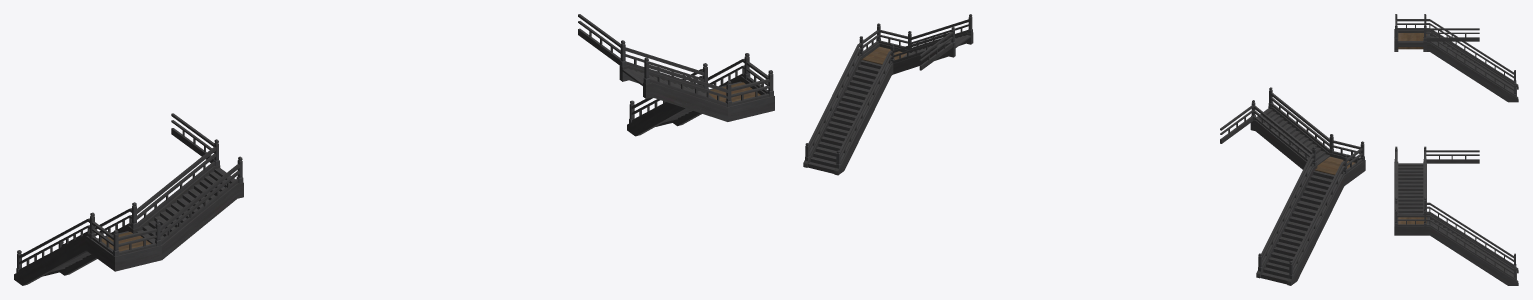
File: Homeworld_Interior_Dq_Room_P_Stair_Vo.fbx
3 views of the same model, side by side, from view 1: azimuth 30°, elevation 25°; view 2: azimuth 150°, elevation 25°; view 3: azimuth 270°, elevation 25° (orthographic). The views are drawn at different scales.
Visible parts, largest first — view 1: Homeworld_Interior_Dq_Room_P_Stair_01_Vo, Homeworld_Interior_Dq_Room_P_Stair_01_01_Vo; view 2: Homeworld_Interior_Dq_Room_P_Stair_01_Vo, Homeworld_Interior_Dq_Room_P_Stair_01_01_Vo; view 3: Homeworld_Interior_Dq_Room_P_Stair_01_01_Vo, Homeworld_Interior_Dq_Room_P_Stair_01_Vo.
Boxes of the visible parts, x1,y1,x2,y2 form: Homeworld_Interior_Dq_Room_P_Stair_01_Vo: [14, 113, 243, 285]; Homeworld_Interior_Dq_Room_P_Stair_01_01_Vo: [578, 14, 774, 136]; Homeworld_Interior_Dq_Room_P_Stair_01_Vo: [1220, 87, 1365, 285]; Homeworld_Interior_Dq_Room_P_Stair_01_01_Vo: [803, 14, 973, 175]; Homeworld_Interior_Dq_Room_P_Stair_01_01_Vo: [1394, 146, 1518, 285]; Homeworld_Interior_Dq_Room_P_Stair_01_Vo: [1394, 14, 1518, 102].
Bounding box in the file's own units: 24.47 × 5.87 × 6.49.
